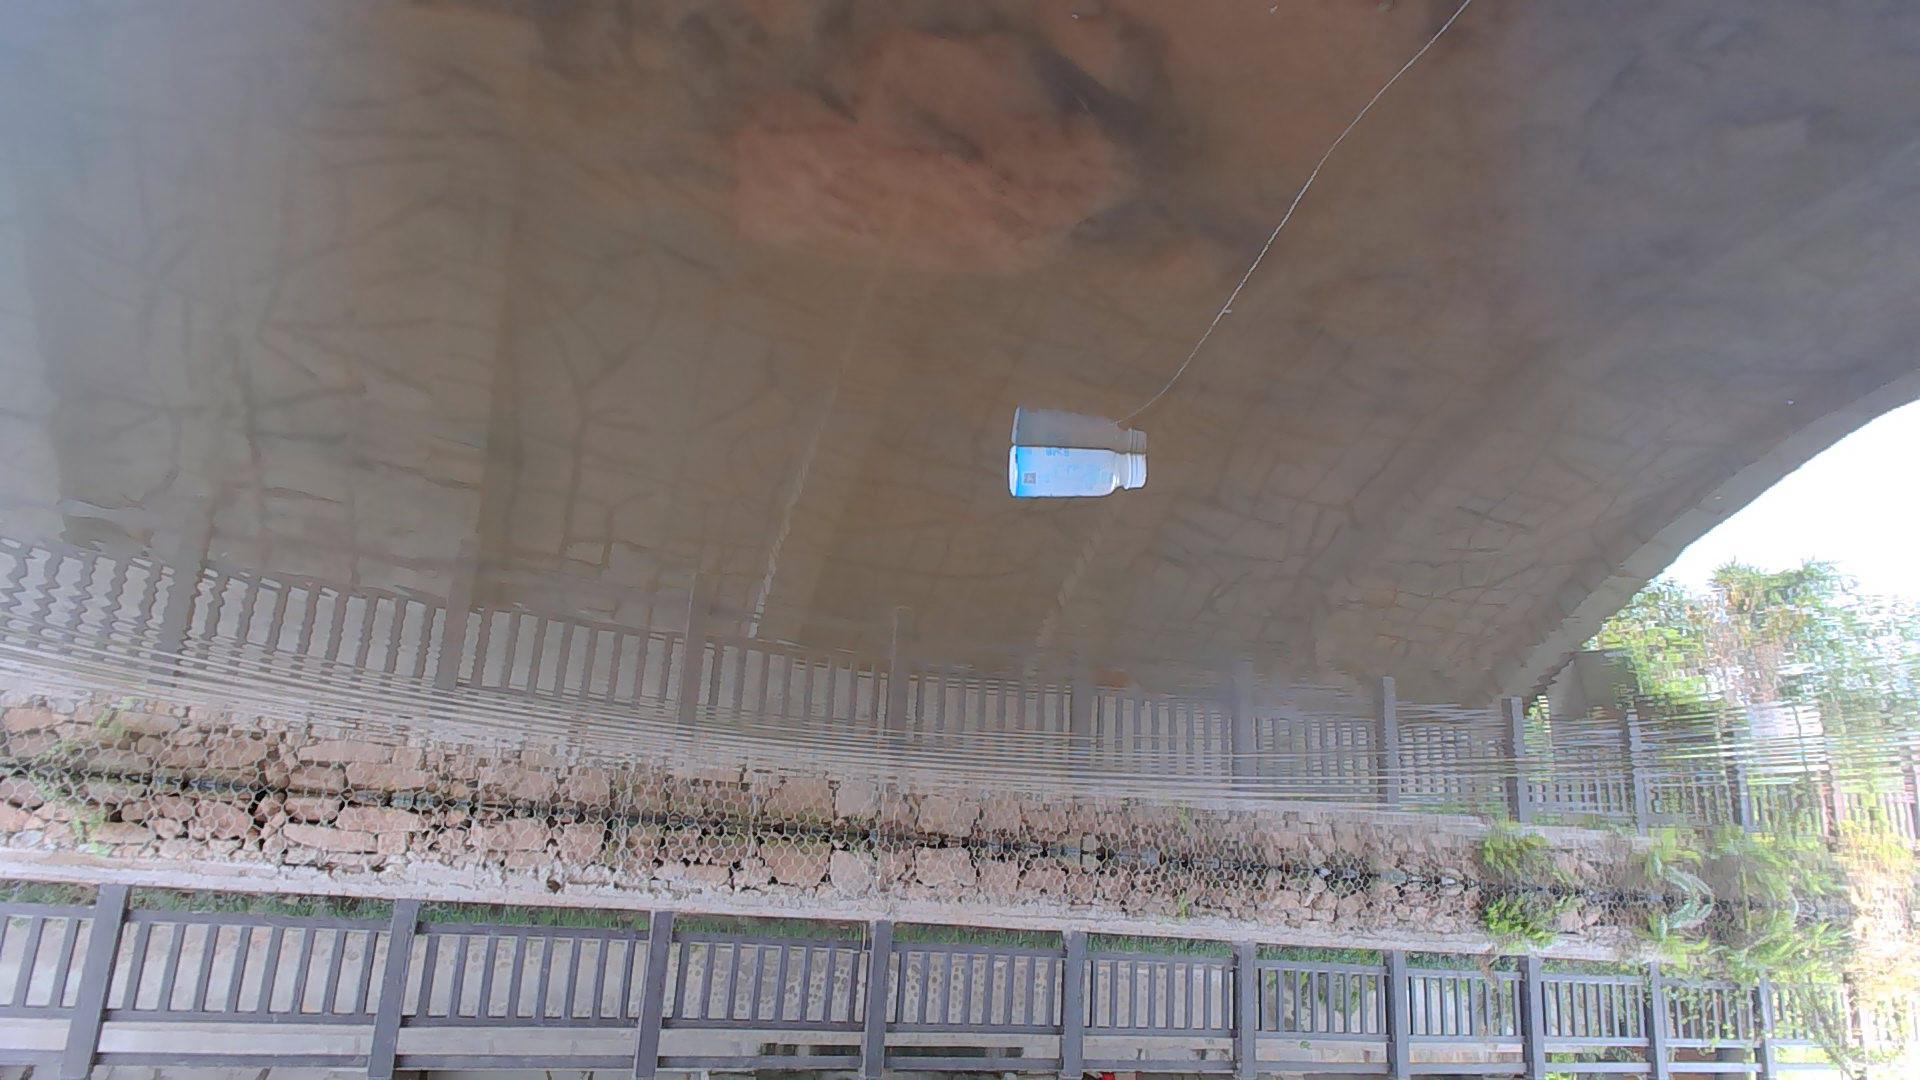Plastic: (998, 435, 1151, 509)
